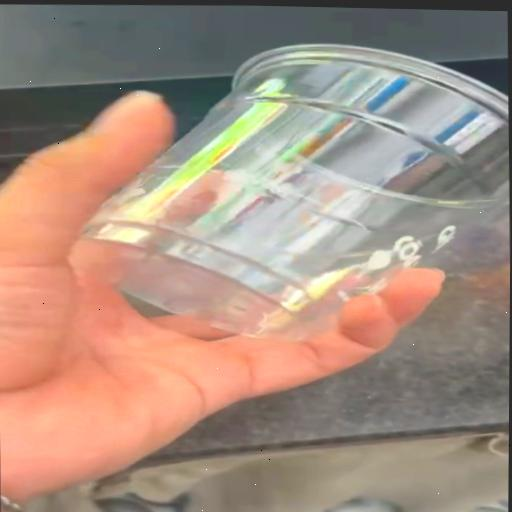ly_nhua: (86, 45, 510, 339)
